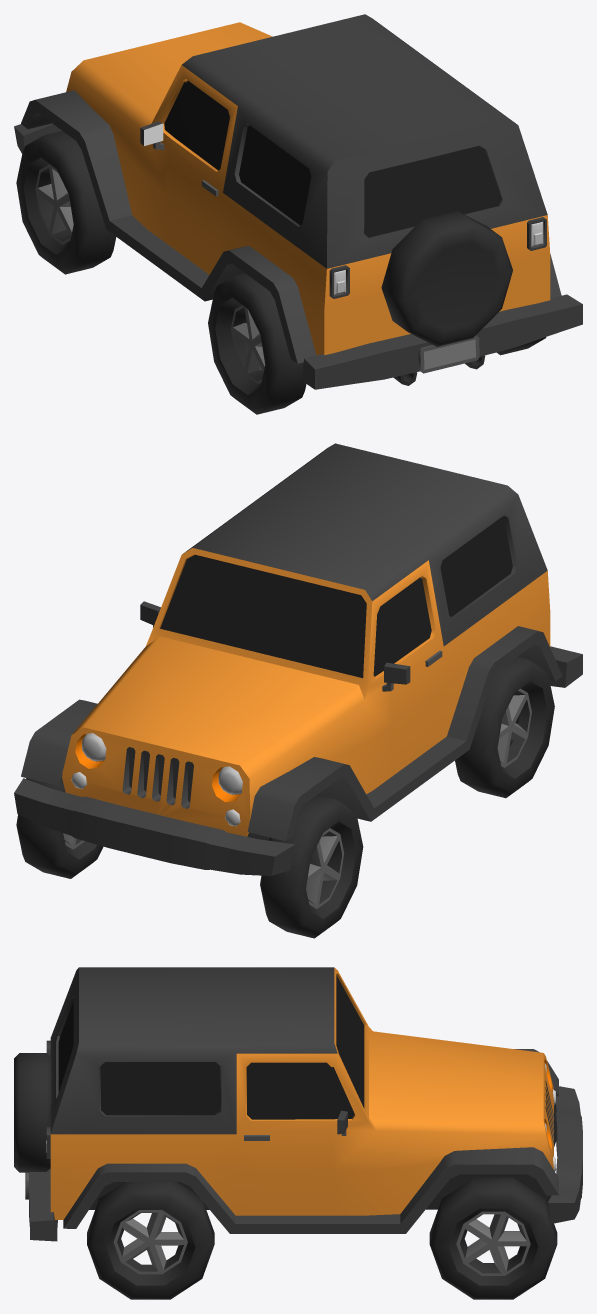
The model's file is jeep.obj.
3 views of the same model, one above another, from view 1: azimuth 30°, elevation 25°; view 2: azimuth 150°, elevation 25°; view 3: azimuth 270°, elevation 25° (orthographic). The views are drawn at different scales.
Visible parts, largest first — view 1: jeep, wheels.042, wheels.044; view 2: jeep, wheels.042, wheels.044, wheels.016; view 3: jeep, wheels.016, wheels.043.
Part boxes in pixels (x1,y1,x2,y2): jeep: (14, 14, 582, 389); wheels.042: (16, 131, 116, 274); wheels.044: (208, 273, 306, 414); jeep: (14, 443, 582, 875); wheels.042: (260, 795, 363, 938); wheels.044: (455, 657, 554, 798); wheels.016: (16, 778, 103, 878); jeep: (14, 967, 582, 1241); wheels.016: (429, 1177, 557, 1299); wheels.043: (87, 1182, 214, 1299).
Bounding box in the file's own units: 2.28 × 2.03 × 4.45.
4 materials, 3 textured.
